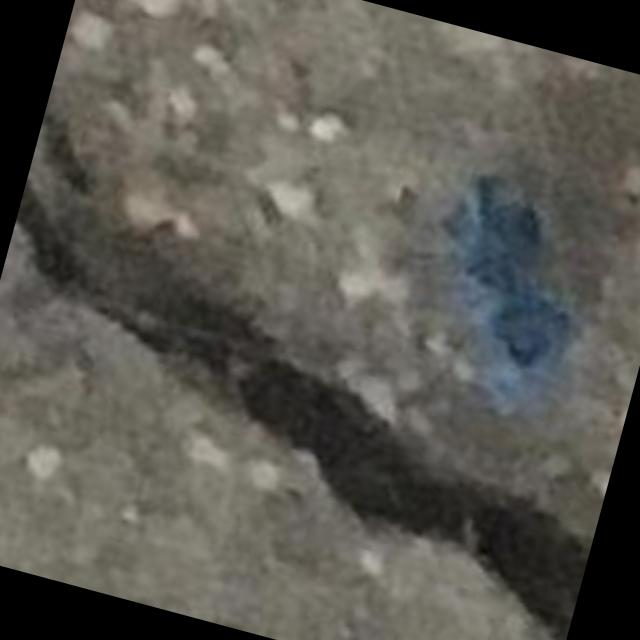crack: (16, 183, 589, 639), (241, 362, 589, 639), (16, 183, 87, 290), (40, 104, 92, 195)
peeling plaster: (448, 172, 567, 405)
